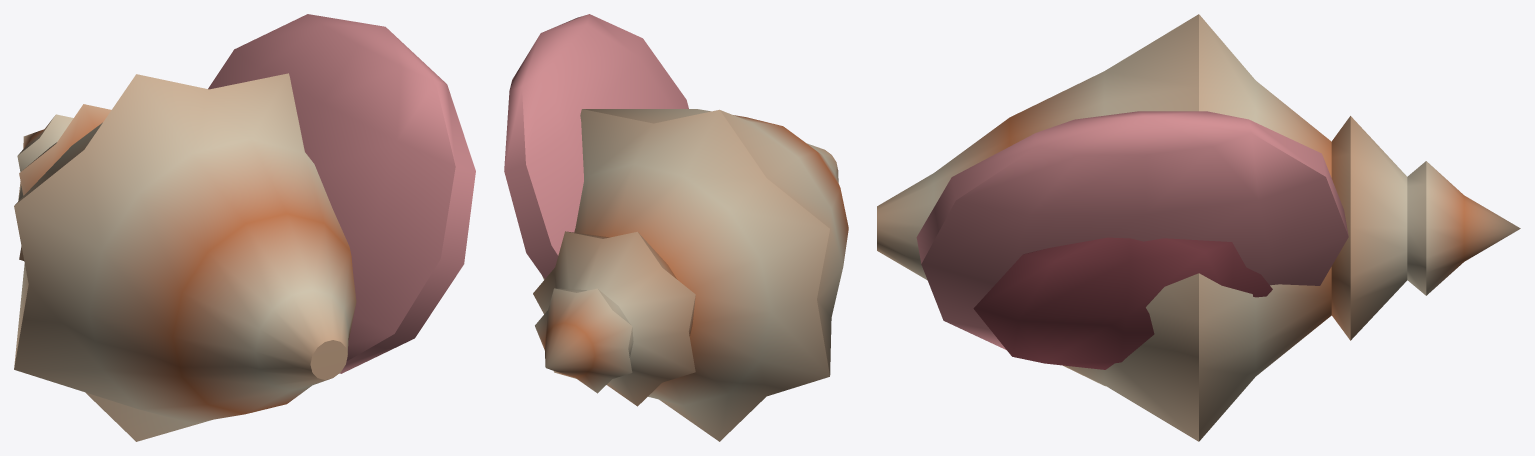
The model's file is conch.glb.
The picture shows the model from 3 angles, left to right: view 1: azimuth 30°, elevation 25°; view 2: azimuth 150°, elevation 25°; view 3: azimuth 270°, elevation 25°; orthographic projection. The views are drawn at different scales.
Parts seen in each view (by area): view 1: conch; view 2: conch; view 3: conch.
Boxes of the visible parts, x1,y1,x2,y2 form: conch: [14, 14, 475, 441]; conch: [504, 14, 848, 441]; conch: [877, 14, 1520, 441].
Bounding box in the file's own units: 0.2327 × 0.233 × 0.34.
